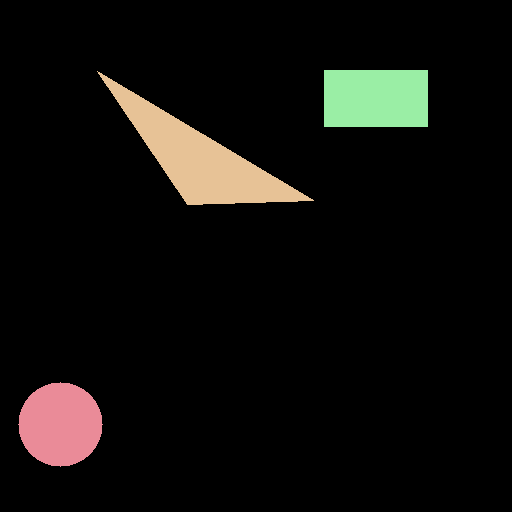circle: (18, 382, 102, 466)
rectangle: (324, 70, 427, 126)
triangle: (97, 71, 313, 204)
